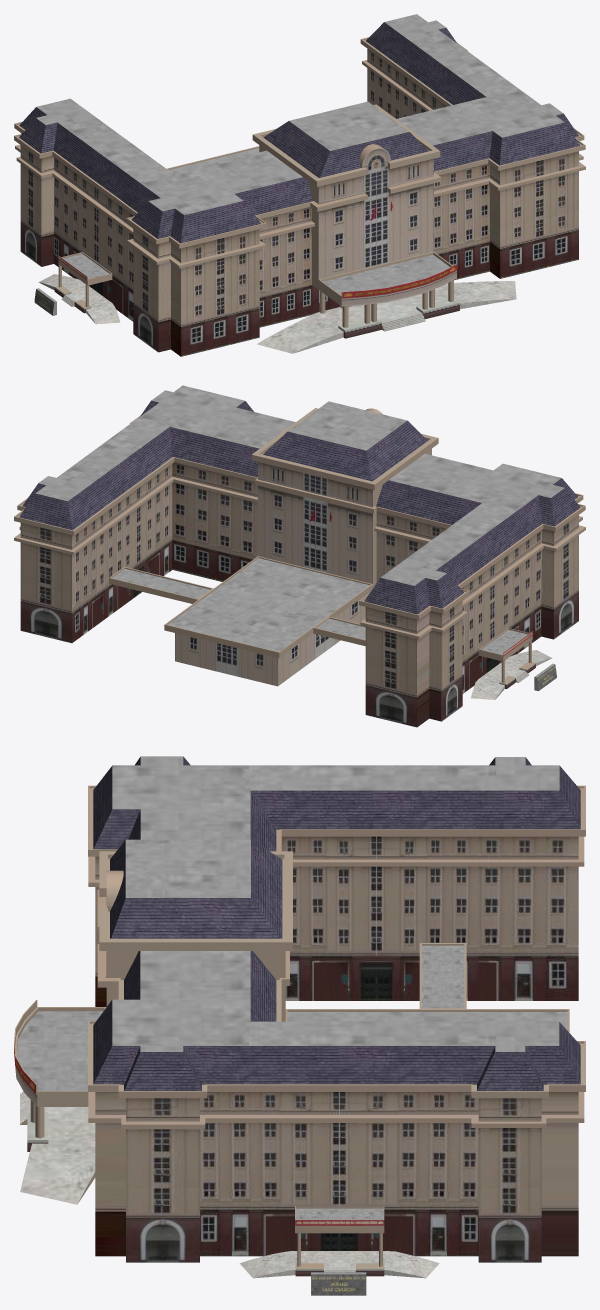
The picture shows the model from 3 angles, top to bottom: view 1: azimuth 30°, elevation 25°; view 2: azimuth 150°, elevation 25°; view 3: azimuth 270°, elevation 25°; orthographic projection. The views are drawn at different scales.
Visible parts, largest first — view 1: HN625_UBNDQuanHoangMai; view 2: HN625_UBNDQuanHoangMai; view 3: HN625_UBNDQuanHoangMai.
Part boxes in pixels (x1,y1,x2,y2): HN625_UBNDQuanHoangMai: (14, 14, 585, 356); HN625_UBNDQuanHoangMai: (14, 385, 585, 727); HN625_UBNDQuanHoangMai: (14, 756, 585, 1295).
Bounding box in the file's own units: 91.5 × 27.57 × 59.36.
Materials: 1 (1 with a texture image).
